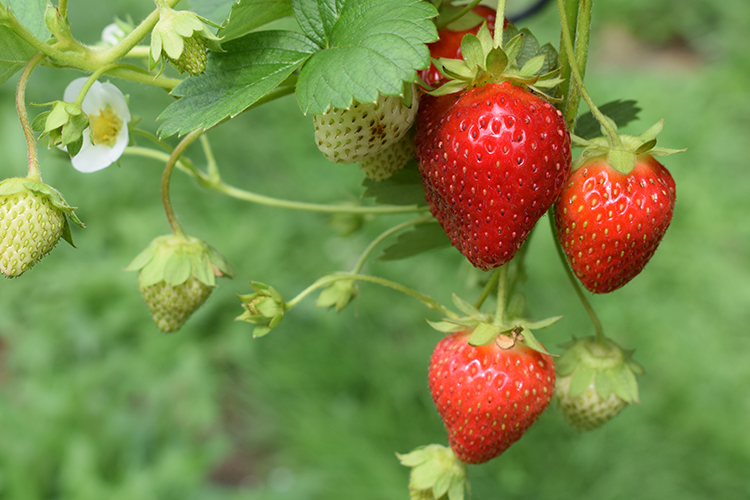ripe: (415, 84, 577, 275), (544, 146, 684, 297), (430, 318, 559, 469), (417, 3, 518, 96)
unripe: (303, 39, 420, 164), (133, 226, 226, 336), (548, 336, 641, 436), (0, 170, 78, 280), (150, 7, 214, 83), (396, 442, 478, 496), (245, 284, 282, 329)
